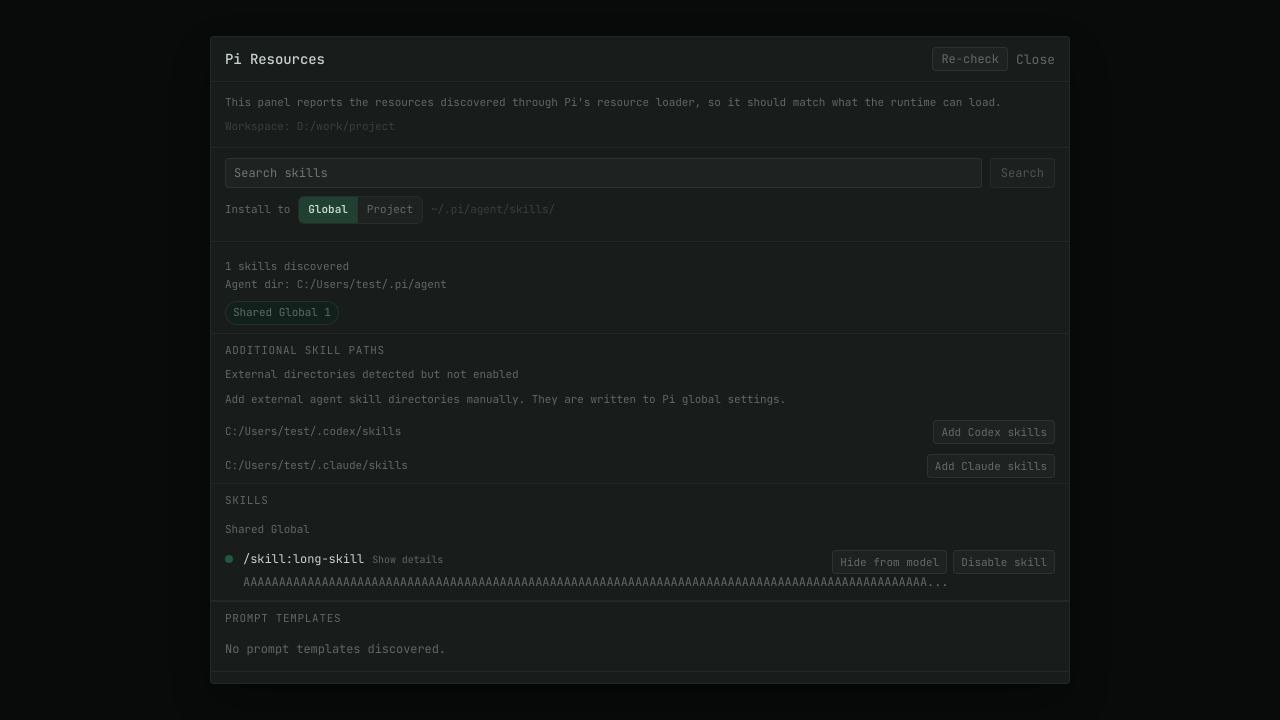
Test case: Skills › keeps long skill descriptions collapsed until the row is opened
Click the text "/skill:long-skill" at (304, 560), box 243,550 -> 364,569
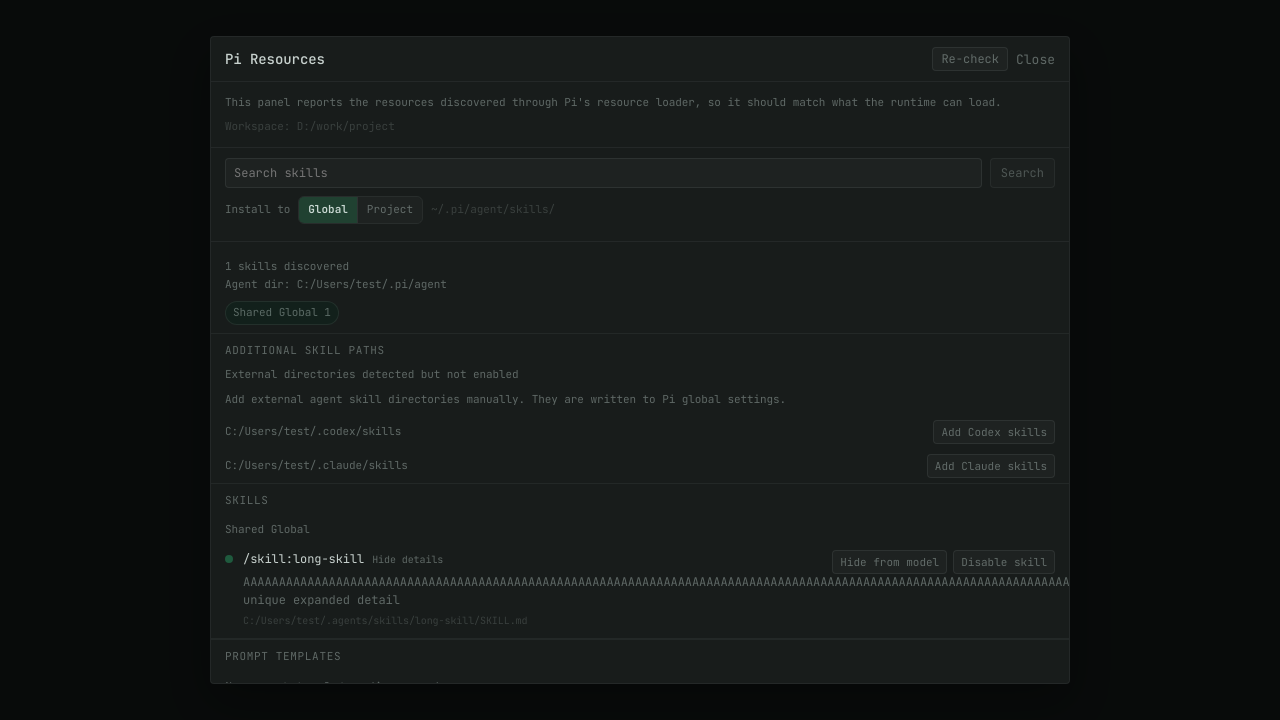
Result: the text "unique expanded detail" is shown at 243,574 -> 1069,608
Result: the text "C:/Users/test/.agents/skills/long-skill/SKILL.md" is shown at 243,614 -> 527,627
